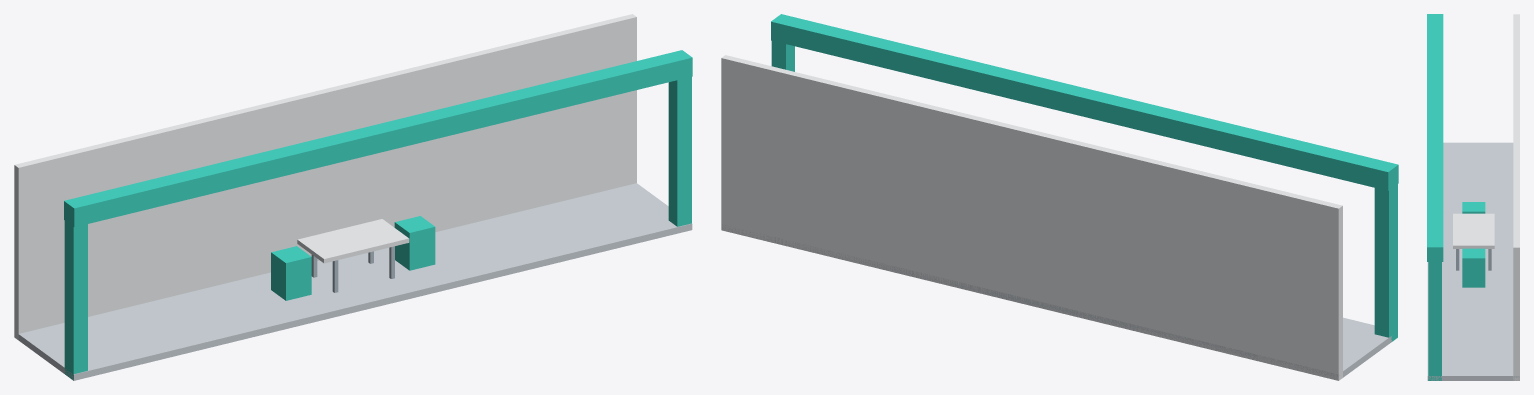
3 views of the same model, side by side, from view 1: azimuth 30°, elevation 25°; view 2: azimuth 150°, elevation 25°; view 3: azimuth 270°, elevation 25° (orthographic). The views are drawn at different scales.
Parts seen in each view (by area): view 1: Exhibition Booth Concept; view 2: Exhibition Booth Concept; view 3: Exhibition Booth Concept.
Part boxes in pixels (bbox=[...]): Exhibition Booth Concept: bbox=[14, 14, 692, 380]; Exhibition Booth Concept: bbox=[721, 14, 1398, 380]; Exhibition Booth Concept: bbox=[1427, 14, 1519, 380].
Bounding box in the file's own units: 12 × 3.2 × 2.01.
